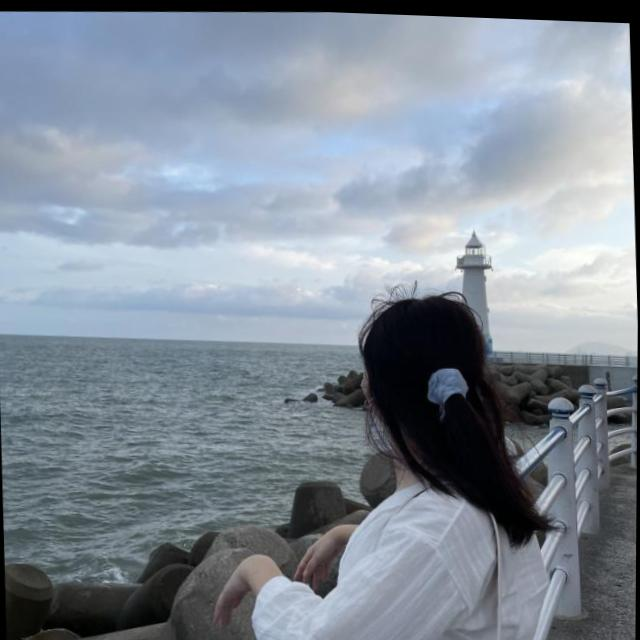no helmet: (358, 285, 503, 479)
